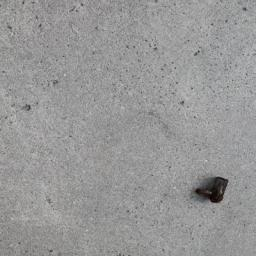FOD: (193, 171, 231, 212)
